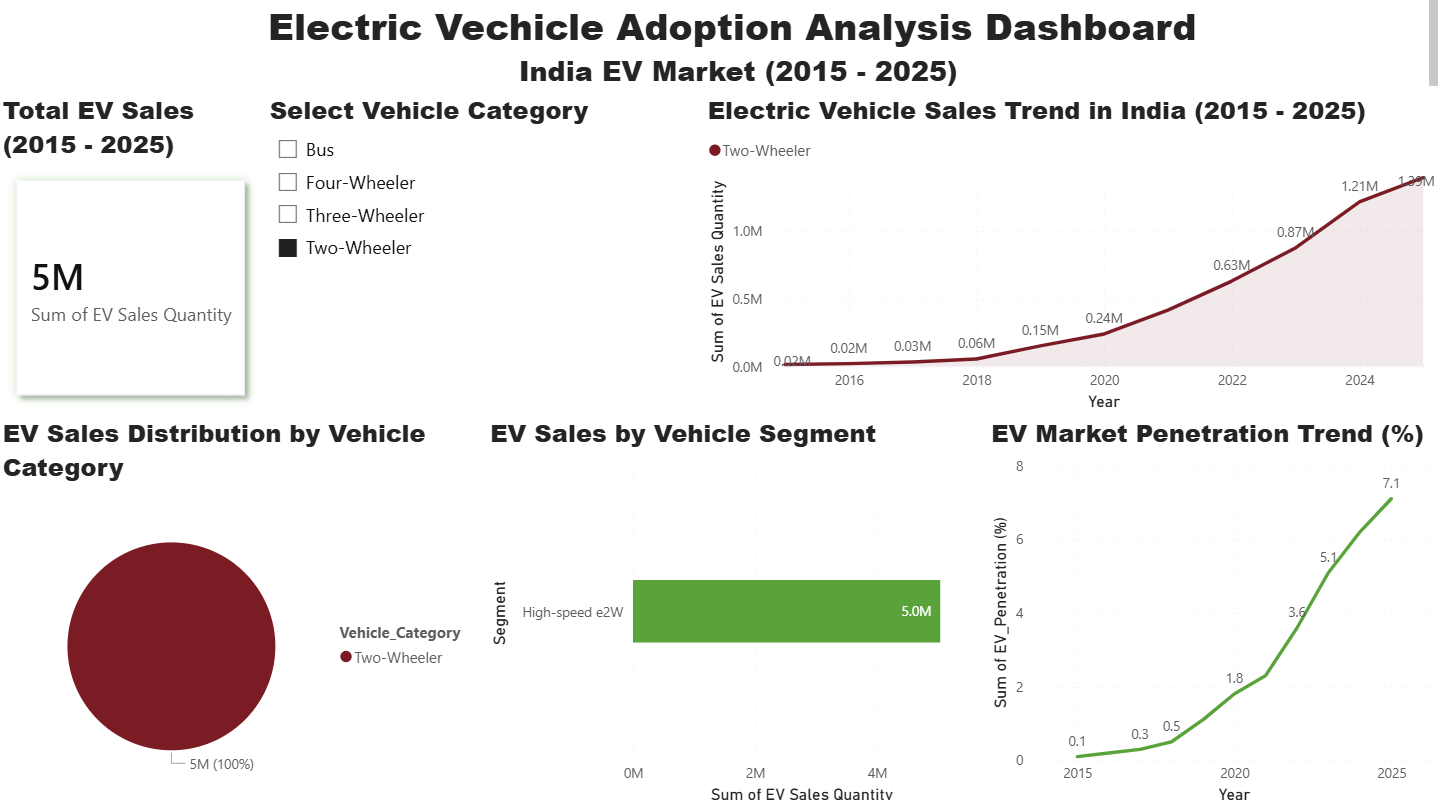

This screenshot's page, from the dashboard's own definition file:
{"tool":"powerbi","page":{"name":"Page 1","canvas":[1280,720],"ordinal":0},"visuals":[{"type":"lineChart","title":"Electric Vehicle Sales Trend in India (2015 - 2025)","fields":{"Category":["Indian_EV_Sales_2015_2025.Year"],"Series":["Indian_EV_Sales_2015_2025.Vehicle_Category"],"Y":["Sum(Indian_EV_Sales_2015_2025.EV Sales Quantity)"]},"box":[623.9,87.8,655.7,284.7],"z":0},{"type":"cardVisual","title":"Total EV Sales (2015 - 2025)","fields":{"Data":["Sum(Indian_EV_Sales_2015_2025.EV Sales Quantity)"]},"box":[0,87.8,236.2,284.7],"z":1000},{"type":"pieChart","title":"EV Sales Distribution by Vehicle Category","fields":{"Category":["Indian_EV_Sales_2015_2025.Vehicle_Category"],"Y":["Sum(Indian_EV_Sales_2015_2025.EV Sales Quantity)"]},"box":[0,372.3,430.9,347.7],"z":2000},{"type":"clusteredBarChart","title":"EV Sales by Vehicle Segment","fields":{"Category":["Indian_EV_Sales_2015_2025.Segment"],"Y":["Sum(Indian_EV_Sales_2015_2025.EV Sales Quantity)"]},"box":[430.9,372.3,444.1,347.7],"z":3000},{"type":"lineChart","title":"EV Market Penetration Trend (%)","fields":{"Category":["Indian_EV_Sales_2015_2025.Year"],"Y":["Sum(Indian_EV_Sales_2015_2025.EV_Penetration (%))"]},"box":[875,372.3,404.4,347.7],"z":4000},{"type":"slicer","title":"Select Vehicle Category","fields":{"Values":["Indian_EV_Sales_2015_2025.Vehicle_Category"]},"box":[236.2,87.8,387.6,284.7],"z":5000},{"type":"textbox","box":[0,0,1279.5,87.8],"z":6000}]}

Visuals, with their boxes in screenshot pixels (x1, y1, x2, y2), scaled from the page's 1280x720 canvas onto the 1444x800 screenshot:
"Electric Vehicle Sales Trend in India (2015 - 2025)" lineChart: [704, 98, 1443, 414]
"Total EV Sales (2015 - 2025)" cardVisual: [0, 98, 266, 414]
"EV Sales Distribution by Vehicle Category" pieChart: [0, 414, 486, 799]
"EV Sales by Vehicle Segment" clusteredBarChart: [486, 414, 987, 799]
"EV Market Penetration Trend (%)" lineChart: [987, 414, 1443, 799]
"Select Vehicle Category" slicer: [266, 98, 704, 414]
textbox: [0, 0, 1443, 98]
